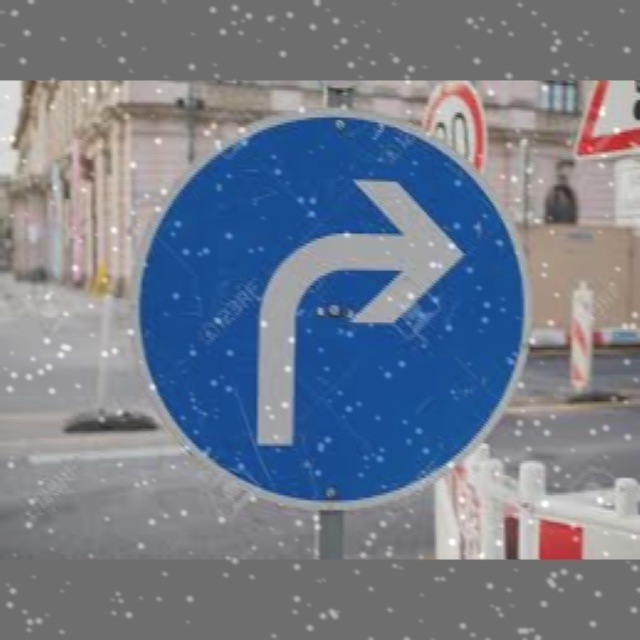Compulsory_Turn_Right_Ahead: (145, 114, 533, 489)
